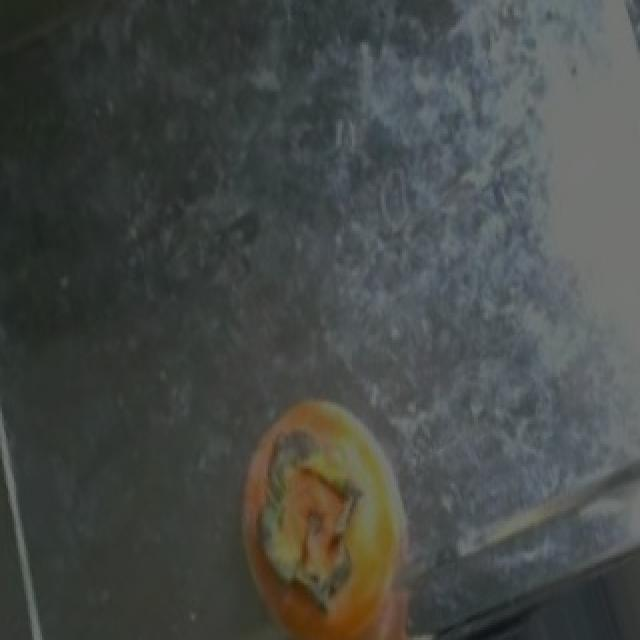Fruit: (224, 377, 430, 640)
